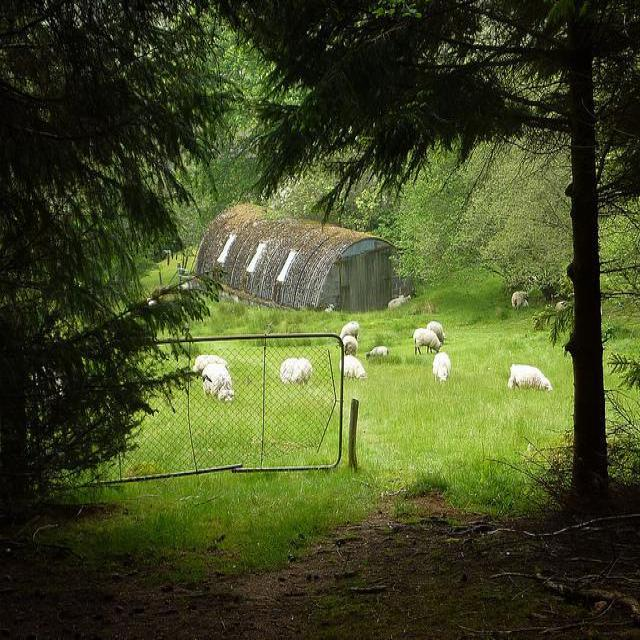Sheep: (201, 362, 234, 404)
